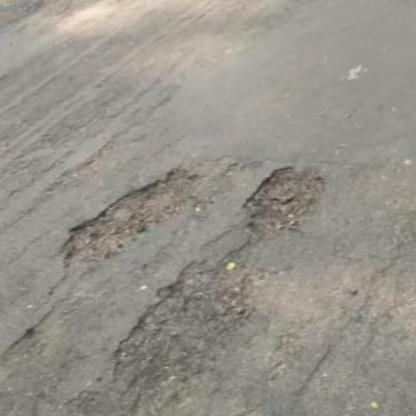pothole: (93, 251, 275, 400), (45, 161, 218, 272), (234, 156, 339, 245)
